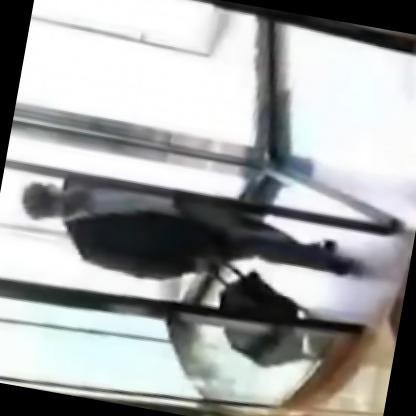Human Body: (12, 160, 367, 315)
